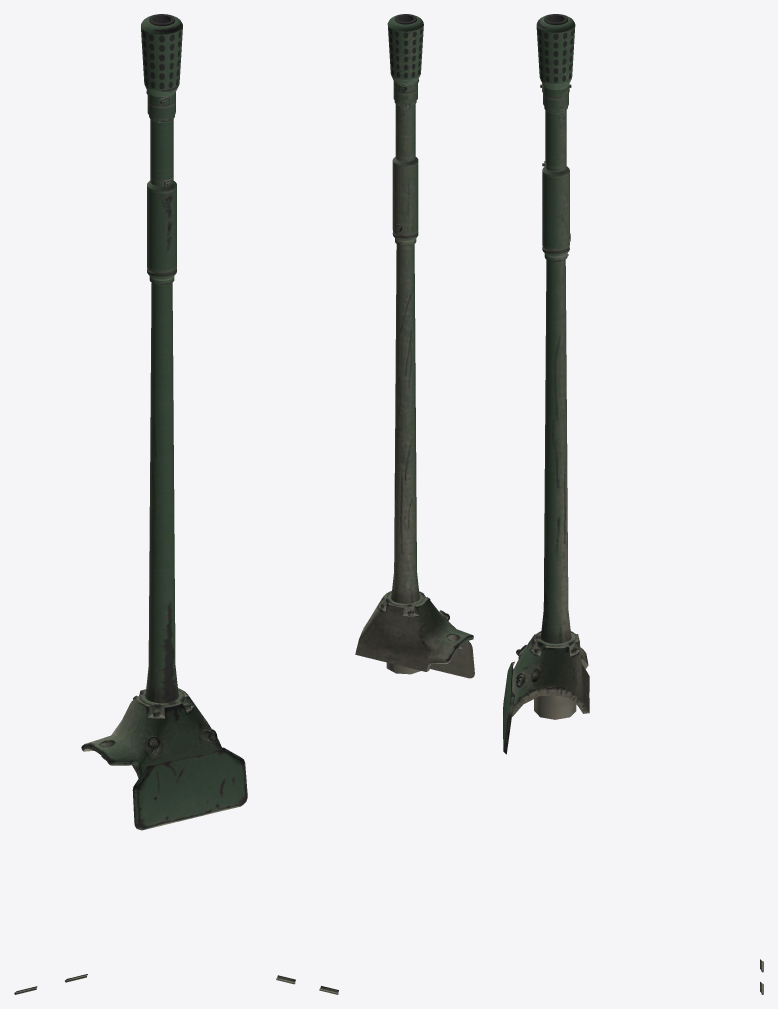
Rendered from Gun_02.glb.
The picture shows the model from 3 angles, left to right: view 1: azimuth 30°, elevation 25°; view 2: azimuth 150°, elevation 25°; view 3: azimuth 270°, elevation 25°; orthographic projection. The views are drawn at different scales.
Parts seen in each view (by area): view 1: set_0_group_0; view 2: set_0_group_0; view 3: set_0_group_0.
Part boxes in pixels (box(x1,y1,x2,y2)): set_0_group_0: box(14, 14, 247, 994); set_0_group_0: box(276, 14, 474, 994); set_0_group_0: box(503, 14, 763, 994).
Size of the model in its own units: 0.9479 by 7.6 by 1.87.
1 material, 1 textured.
